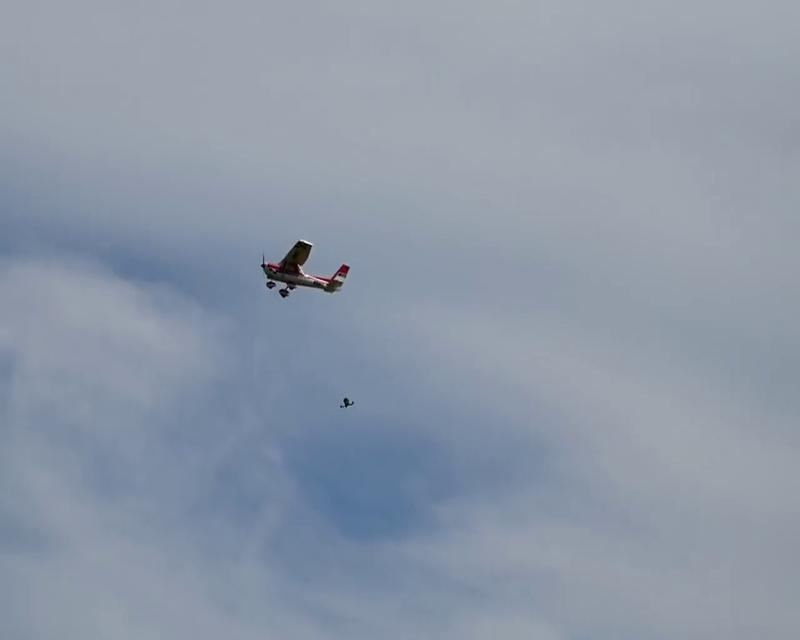UAV: (258, 240, 352, 300)
